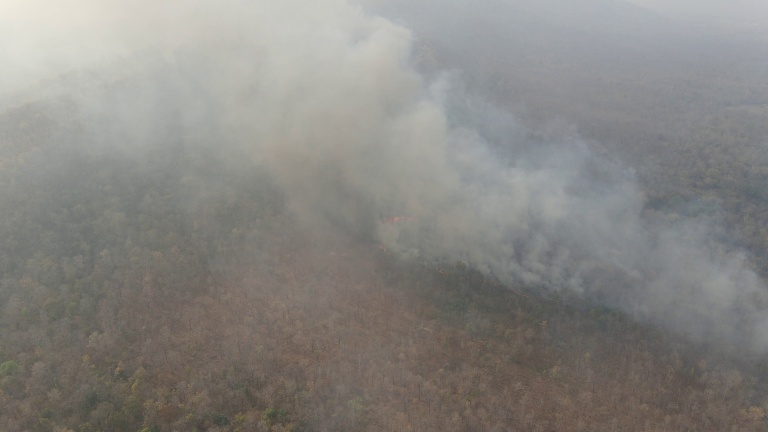fire: (385, 211, 424, 227), (377, 241, 395, 260), (434, 262, 450, 276)
smoke: (138, 1, 543, 276), (521, 150, 768, 352)
